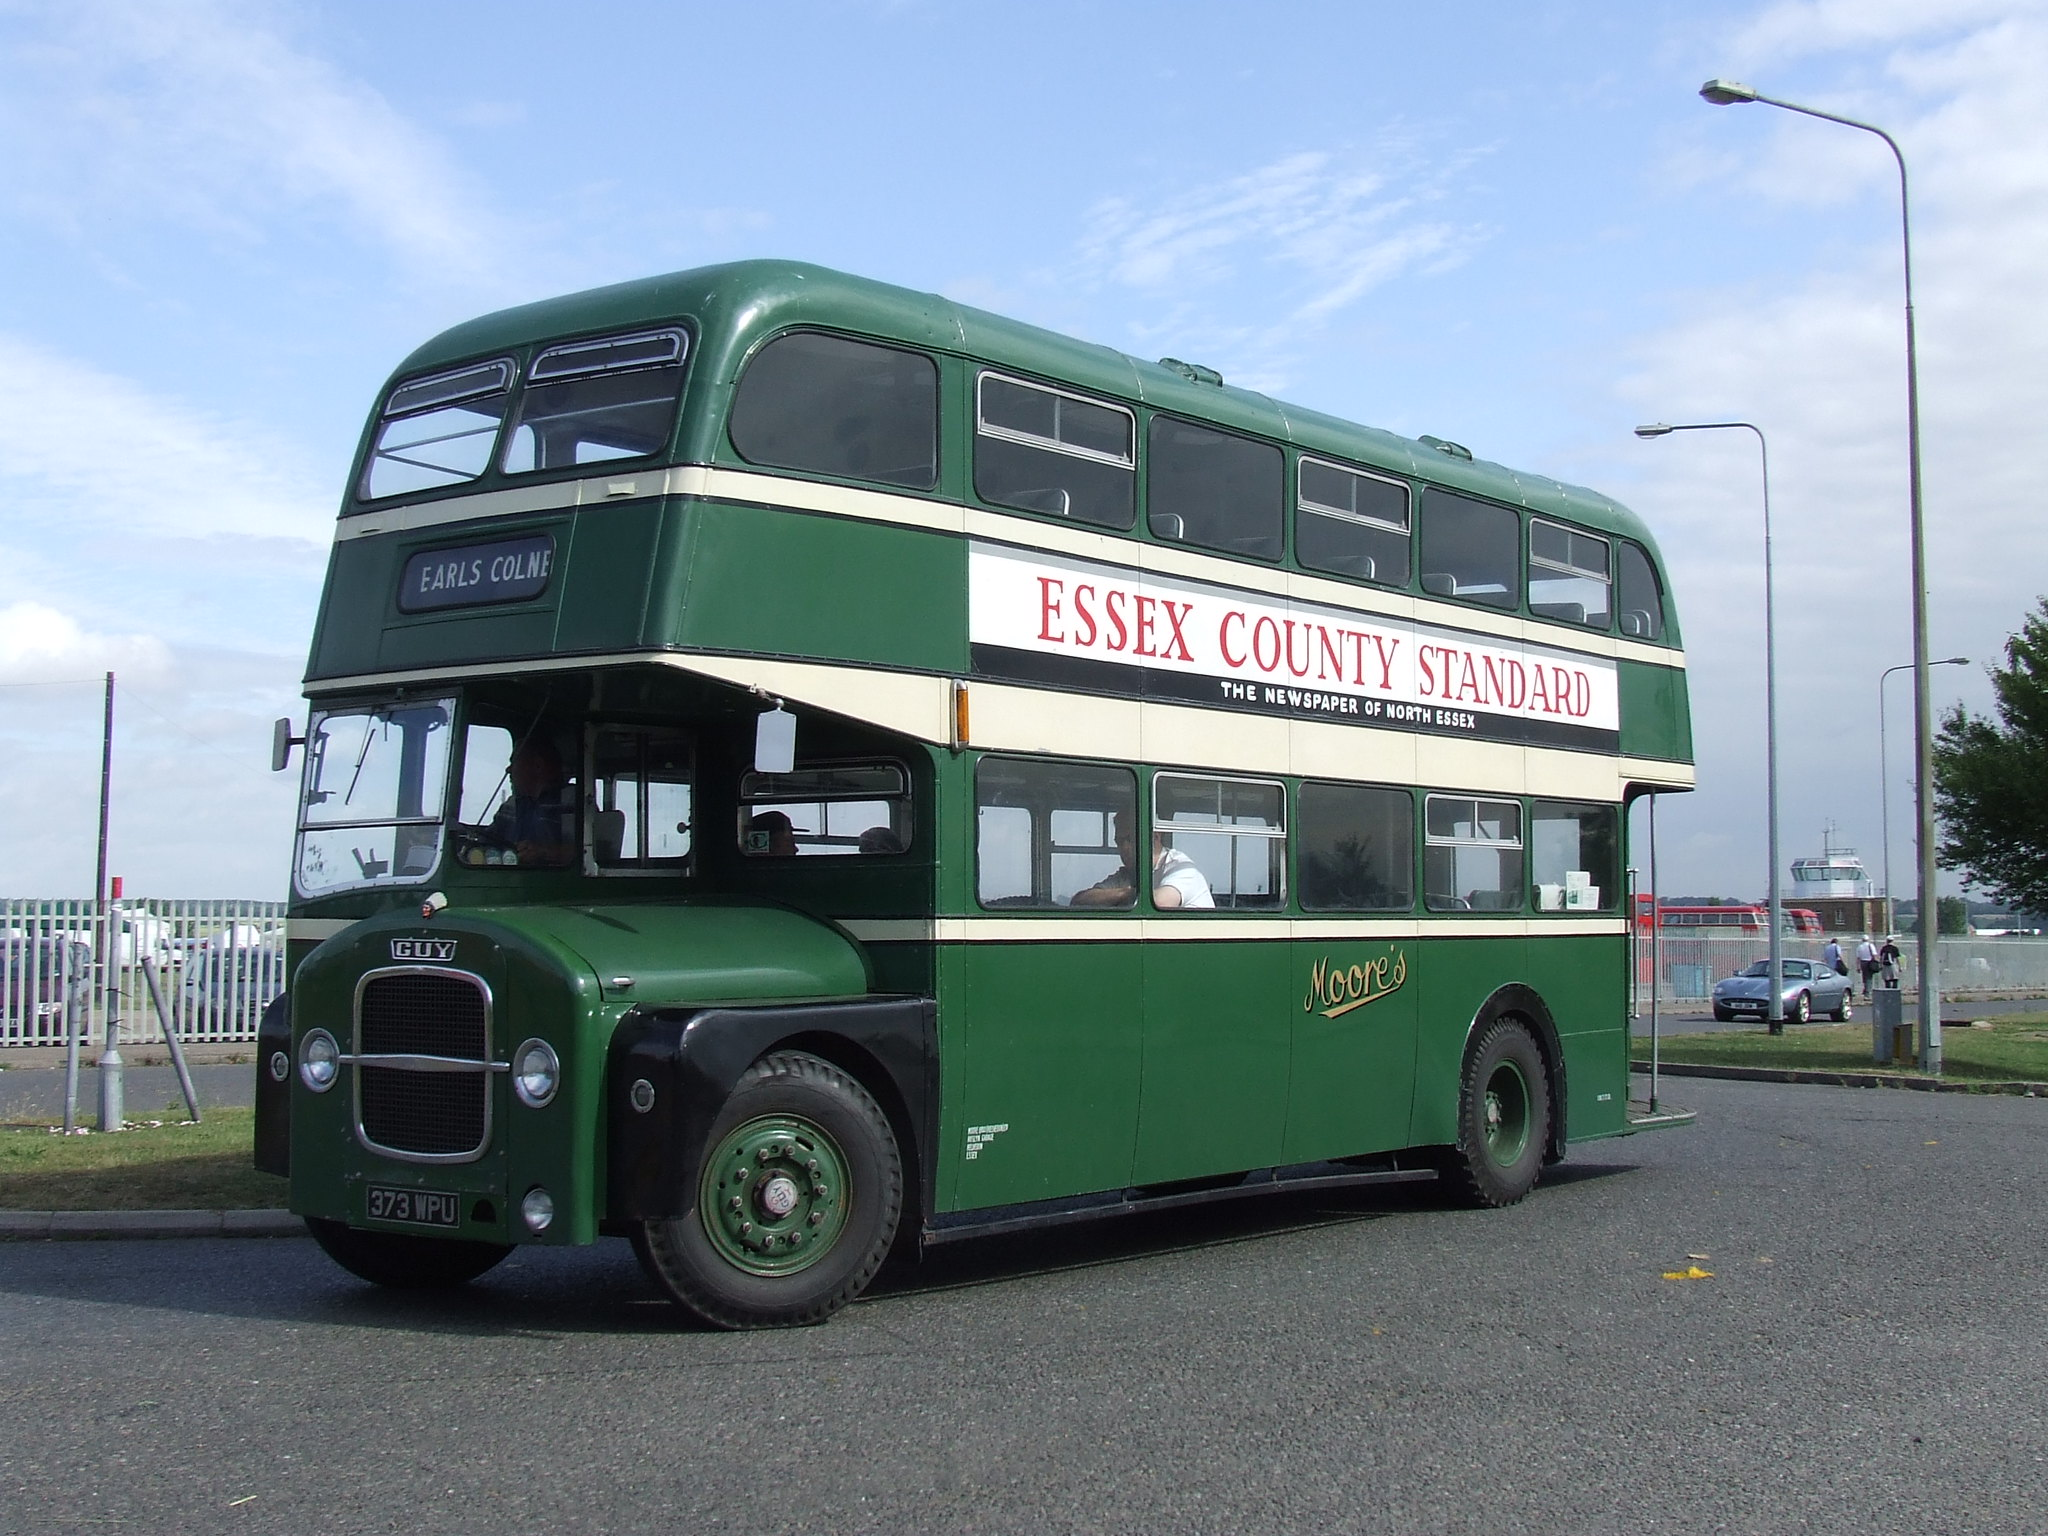bus: (235, 252, 1743, 1333)
